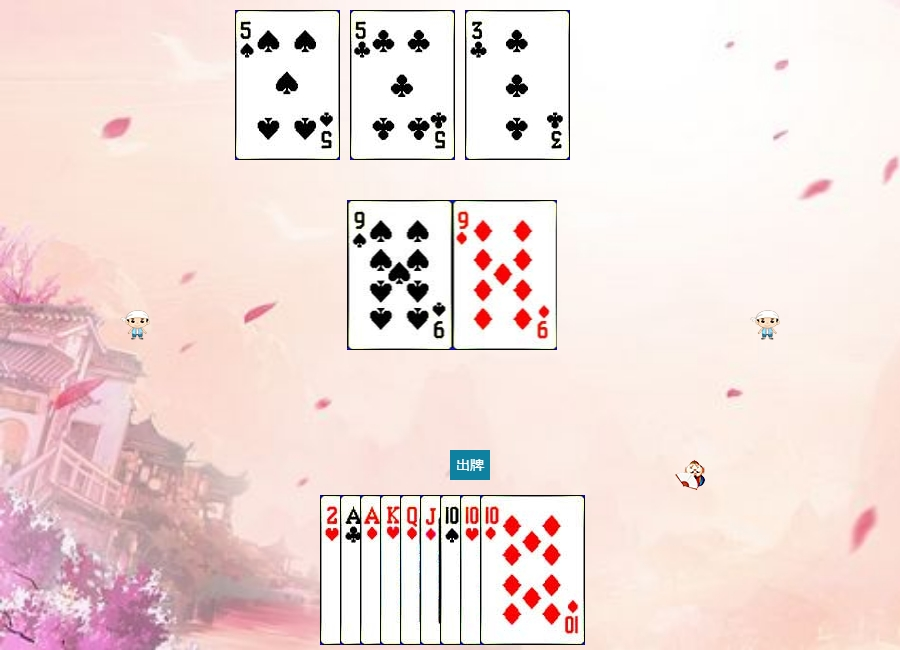10~1: (480, 495, 585, 645)
10~3: (460, 495, 565, 645)
10~4: (440, 495, 545, 645)
11~1: (420, 495, 525, 645)
12~1: (400, 495, 505, 645)
13~3: (380, 495, 485, 645)
14~1: (360, 495, 465, 645)
14~2: (340, 495, 445, 645)
15~3: (320, 495, 425, 645)
3~2: (465, 10, 570, 160)
5~2: (350, 10, 455, 160)
5~4: (235, 10, 340, 160)
9~1: (453, 200, 558, 350)
9~4: (348, 200, 453, 350)
